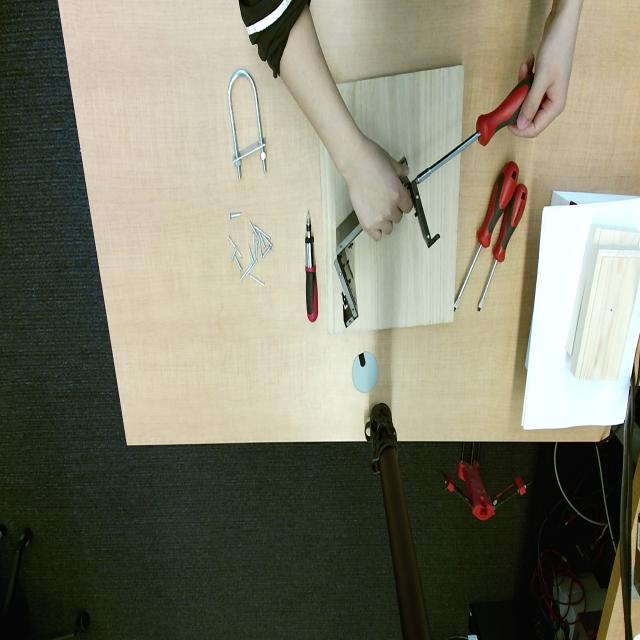screwdriver: (412, 73, 534, 186), (454, 162, 519, 308), (478, 184, 528, 311), (305, 213, 319, 322)
